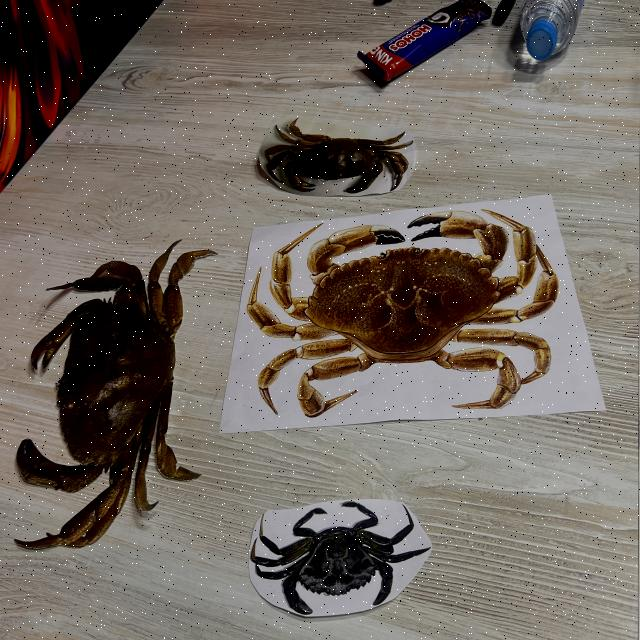European_Green_Crab: (246, 490, 435, 622)
